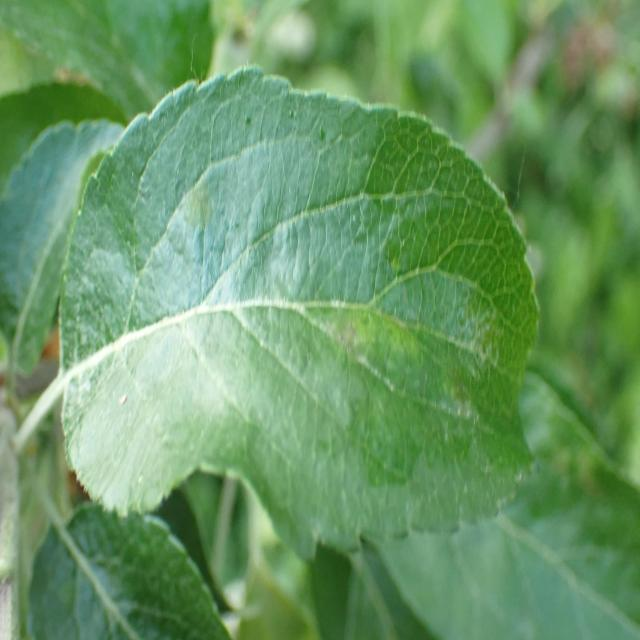scab: (92, 169, 520, 514)
